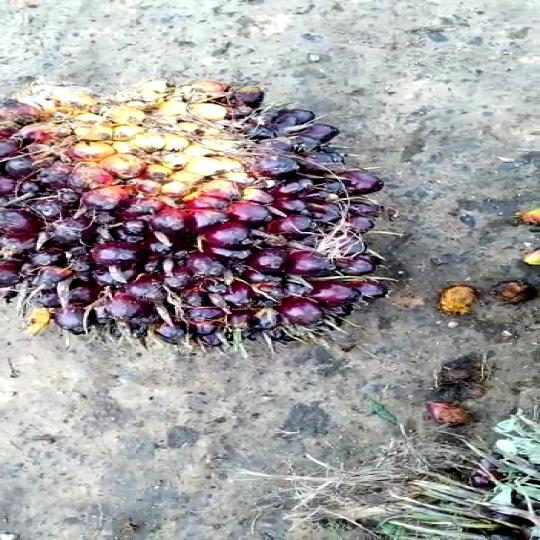mentah: (4, 78, 404, 372)
